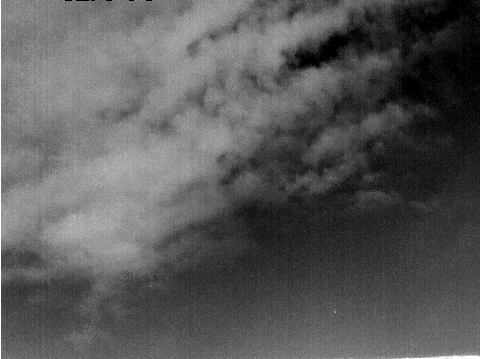dim target: (333, 310, 338, 315)
